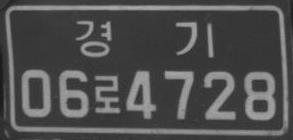0: (20, 67, 52, 119)
2: (202, 70, 237, 121)
4: (125, 69, 157, 119)
6: (57, 68, 89, 119)
7: (163, 69, 195, 120)
8: (242, 70, 277, 122)
경기_D: (73, 18, 216, 59)
로: (93, 73, 122, 115)
